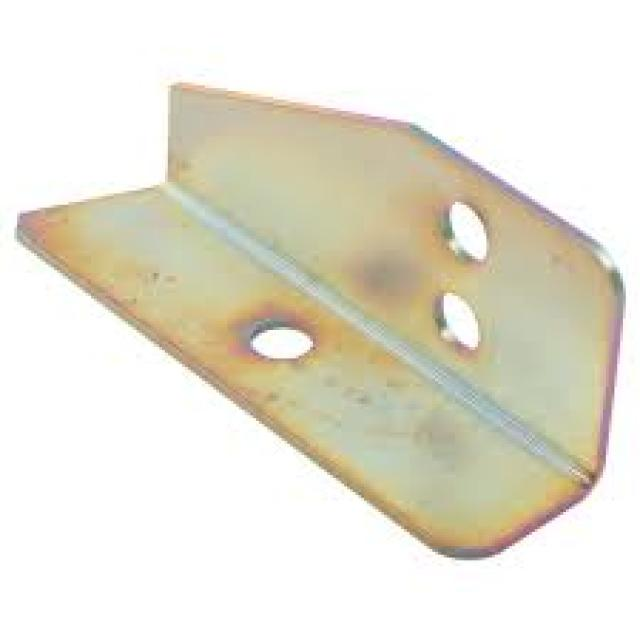holes: (438, 199, 489, 262), (245, 316, 313, 361), (432, 290, 481, 350)
